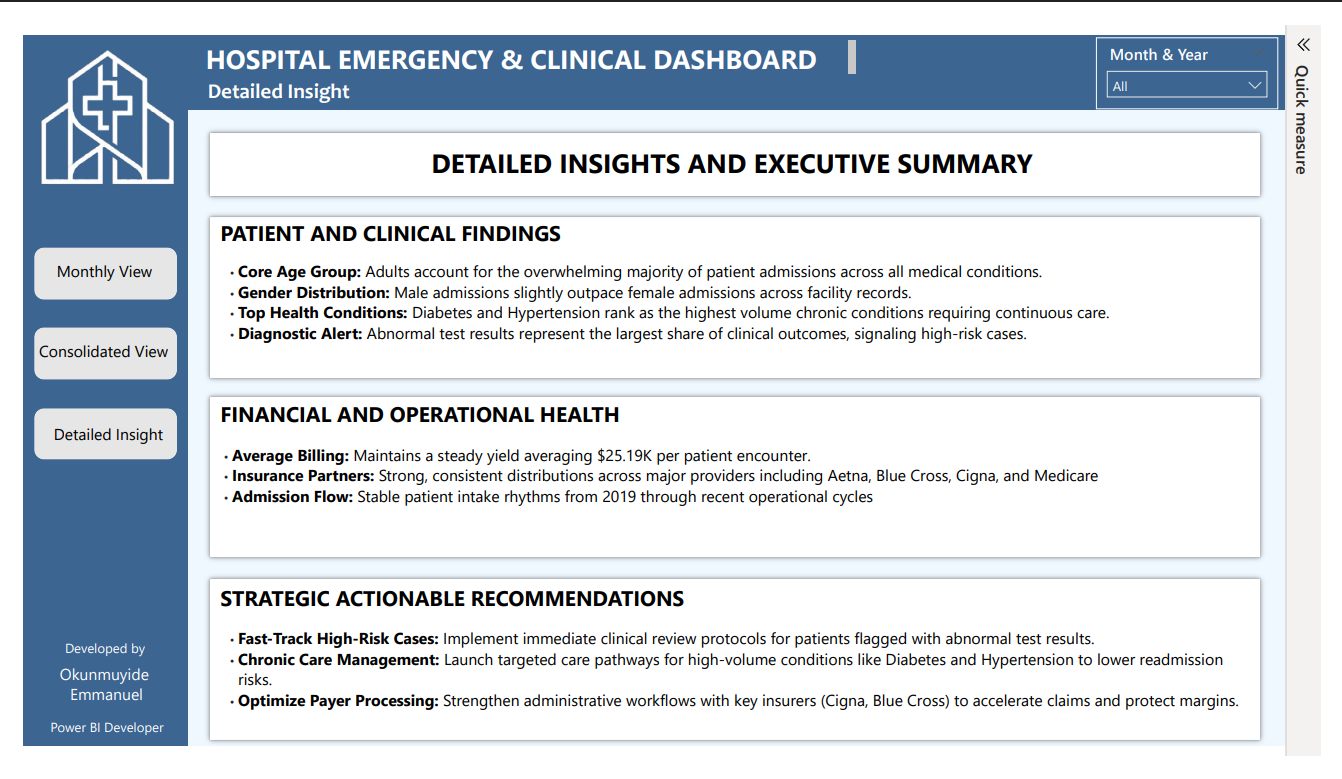

Layout of this report page (visuals, bound fields, positions):
{"tool":"powerbi","page":{"name":"Detailed Insight","canvas":[1280,720],"ordinal":2},"visuals":[{"type":"shape","box":[0,0,167.4,720.4],"z":0},{"type":"shape","box":[152.5,0,1127.5,76.2],"z":1000},{"type":"textbox","box":[179.8,0,670.1,45.2],"z":2000},{"type":"textbox","box":[182.2,39.1,204.2,42.8],"z":3000},{"type":"shape","box":[11.2,215,145,52.5],"z":4000},{"type":"shape","box":[11.2,296.2,145,52.5],"z":5000},{"type":"shape","box":[11.2,377.5,145,52.5],"z":6000},{"type":"textbox","box":[28.8,222.5,123.8,42.5],"z":7000},{"type":"textbox","box":[11.2,303.8,158.8,42.5],"z":8000},{"type":"textbox","box":[26.2,387.5,141.2,42.5],"z":9000},{"type":"slicer","fields":{"Values":["healthcare_dataset.Month & Year"]},"box":[1088.3,2.4,184.6,72.1],"z":10000},{"type":"image","box":[1.2,2.4,167.5,157.7],"z":11000},{"type":"textbox","box":[29.3,606.5,107.6,34.2],"z":12000},{"type":"textbox","box":[25.7,631,117.4,59.9],"z":13000},{"type":"textbox","box":[2.4,687,165.1,33],"z":14000},{"type":"shape","box":[182.5,92.5,1078.8,76.2],"z":15000},{"type":"textbox","box":[408.8,106.2,636.2,60],"z":16000},{"type":"shape","box":[182.5,177.5,1078.8,175],"z":17000},{"type":"shape","box":[182.5,360,1078.8,175],"z":18000},{"type":"shape","box":[182.5,545,1078.8,175],"z":19000},{"type":"textbox","box":[195,180,521.2,45],"z":20000},{"type":"textbox","box":[195,222.5,1055,130],"z":21000},{"type":"textbox","box":[195,363.8,521.2,45],"z":22000},{"type":"textbox","box":[188.8,408.8,1055,105],"z":23000},{"type":"textbox","box":[195,595,1055,106.2],"z":24000},{"type":"textbox","box":[195,550,521.2,45],"z":25000}]}

Visuals, with their boxes on the page's 1280x720 design canvas (x1, y1, x2, y2). These are canvas units, not pixel positions in the 1342x779 screenshot, which may show the page scaled, cropped or inside an application window:
shape: l=0, t=0, r=167, b=720
shape: l=152, t=0, r=1280, b=76
textbox: l=180, t=0, r=850, b=45
textbox: l=182, t=39, r=386, b=82
shape: l=11, t=215, r=156, b=268
shape: l=11, t=296, r=156, b=349
shape: l=11, t=378, r=156, b=430
textbox: l=29, t=222, r=153, b=265
textbox: l=11, t=304, r=170, b=346
textbox: l=26, t=388, r=167, b=430
slicer - healthcare_dataset.Month & Year: l=1088, t=2, r=1273, b=74
image: l=1, t=2, r=169, b=160
textbox: l=29, t=606, r=137, b=641
textbox: l=26, t=631, r=143, b=691
textbox: l=2, t=687, r=168, b=720
shape: l=182, t=92, r=1261, b=169
textbox: l=409, t=106, r=1045, b=166
shape: l=182, t=178, r=1261, b=352
shape: l=182, t=360, r=1261, b=535
shape: l=182, t=545, r=1261, b=720
textbox: l=195, t=180, r=716, b=225
textbox: l=195, t=222, r=1250, b=352
textbox: l=195, t=364, r=716, b=409
textbox: l=189, t=409, r=1244, b=514
textbox: l=195, t=595, r=1250, b=701
textbox: l=195, t=550, r=716, b=595
